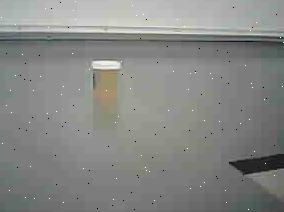Bottle B: (82, 56, 128, 112)
